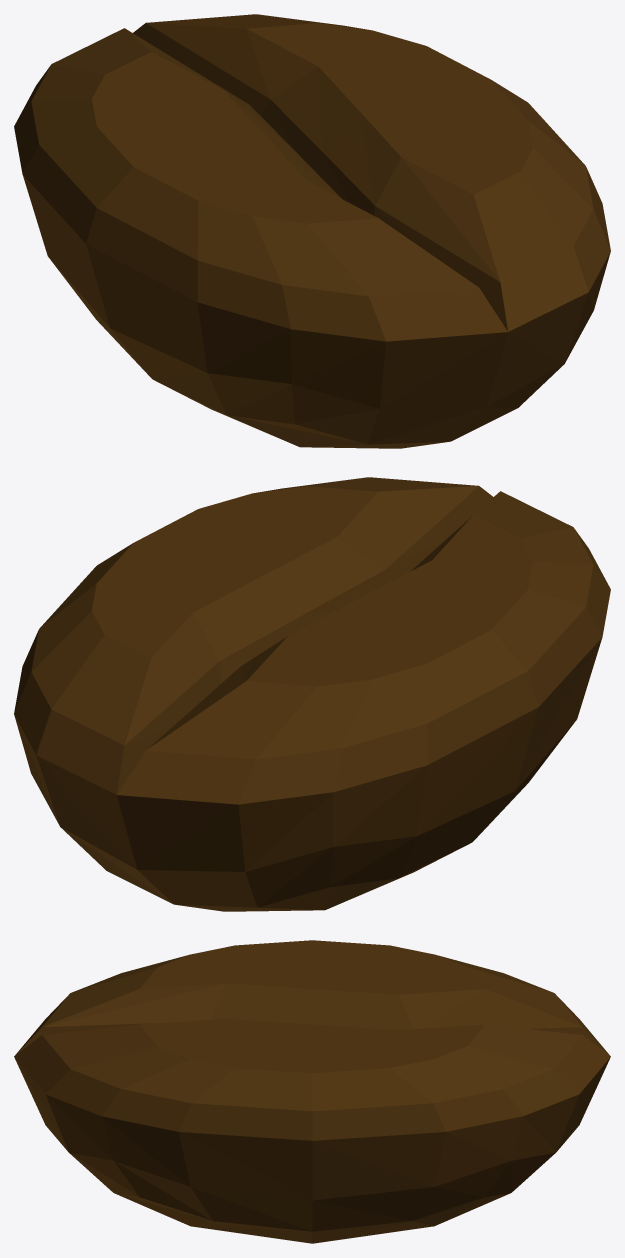
File: 218_Coffee Bean.obj
3 renders of one model, top to bottom at view 1: azimuth 30°, elevation 25°; view 2: azimuth 150°, elevation 25°; view 3: azimuth 270°, elevation 25°, orthographic. The views are drawn at different scales.
Visible parts, largest first — view 1: Coffee_Bean; view 2: Coffee_Bean; view 3: Coffee_Bean.
Boxes of the visible parts, box(x1,y1,x2,y2) form: Coffee_Bean: box(14, 14, 610, 448); Coffee_Bean: box(14, 477, 610, 911); Coffee_Bean: box(14, 940, 610, 1243).
Size of the model in its own units: 33.58 by 20.29 by 50.29.
1 material, 1 textured.
